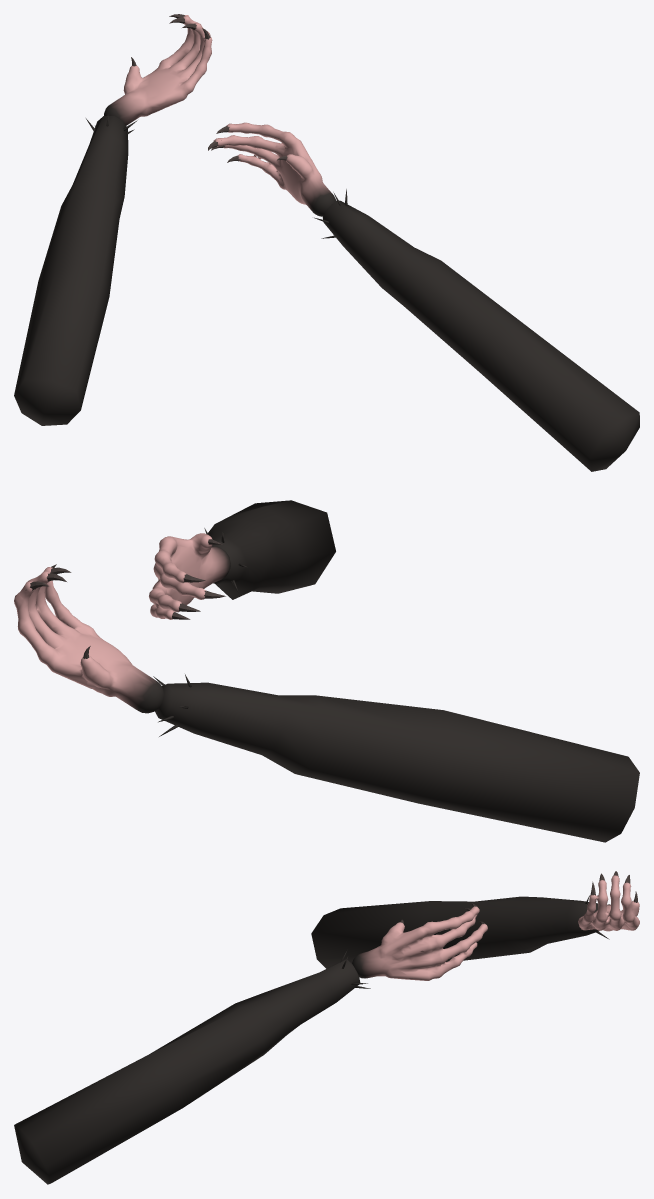
Rendered from gunny-paws.glb.
3 views of the same model, one above another, from view 1: azimuth 30°, elevation 25°; view 2: azimuth 150°, elevation 25°; view 3: azimuth 270°, elevation 25° (orthographic). The views are drawn at different scales.
Parts seen in each view (by area): view 1: RightPaw, LeftPaw; view 2: LeftPaw, RightPaw; view 3: RightPaw, LeftPaw.
Part boxes in pixels (box(x1,y1,x2,y2)): RightPaw: box(208, 122, 639, 471); LeftPaw: box(14, 14, 212, 425); LeftPaw: box(14, 564, 639, 842); RightPaw: box(149, 500, 335, 619); RightPaw: box(14, 903, 487, 1184); LeftPaw: box(311, 871, 639, 968).
Bounding box in the file's own units: 1 × 0.5458 × 1.23.
